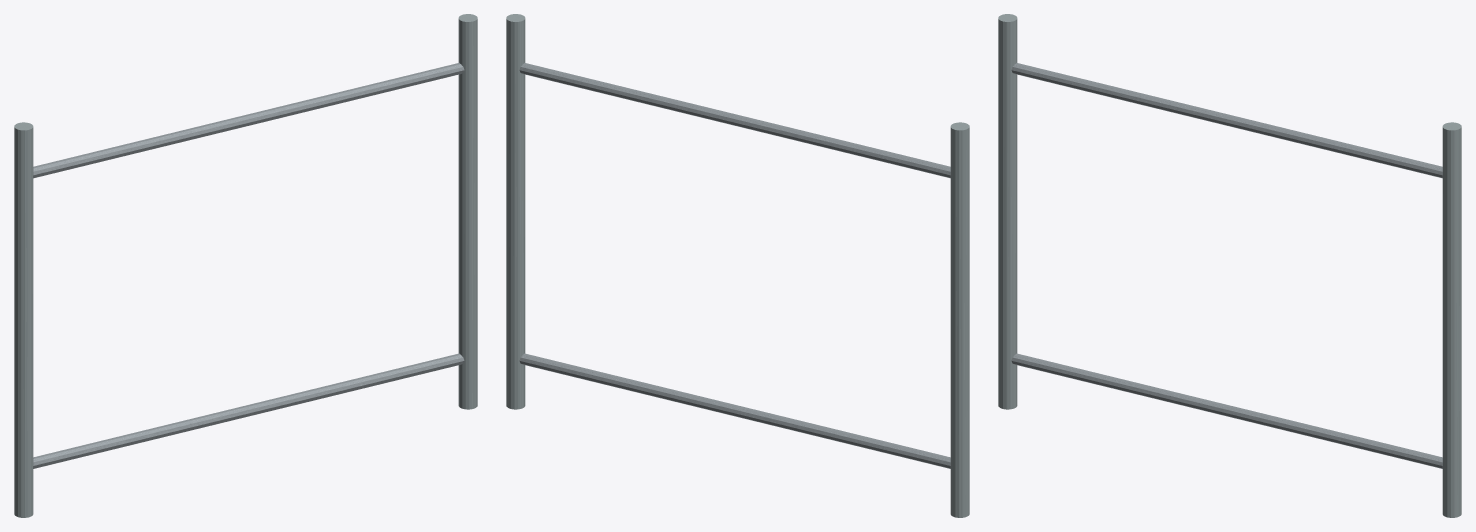
The model's file is fence_lod2.glb.
3 renders of one model, left to right at view 1: azimuth 30°, elevation 25°; view 2: azimuth 150°, elevation 25°; view 3: azimuth 330°, elevation 25°, orthographic.
Visible parts, largest first — view 1: fence_post_-1.2, fence_post_1.2, fence_rail_0.25, fence_rail_1.75; view 2: fence_post_-1.2, fence_post_1.2, fence_rail_0.25, fence_rail_1.75; view 3: fence_post_1.2, fence_post_-1.2, fence_rail_0.25, fence_rail_1.75.
Part boxes in pixels (box(x1,y1,x2,y2)): fence_post_-1.2: box(14, 122, 33, 517); fence_post_1.2: box(458, 14, 477, 409); fence_rail_0.25: box(33, 353, 464, 468); fence_rail_1.75: box(33, 63, 464, 178); fence_post_-1.2: box(950, 122, 969, 517); fence_post_1.2: box(506, 14, 525, 409); fence_rail_0.25: box(519, 353, 950, 468); fence_rail_1.75: box(519, 63, 950, 178); fence_post_1.2: box(1442, 122, 1461, 517); fence_post_-1.2: box(998, 14, 1017, 409); fence_rail_0.25: box(1011, 353, 1442, 468); fence_rail_1.75: box(1011, 63, 1442, 178).
Size of the model in its own units: 2.49 by 2 by 0.09.
Materials: 2 (2 with a texture image).
